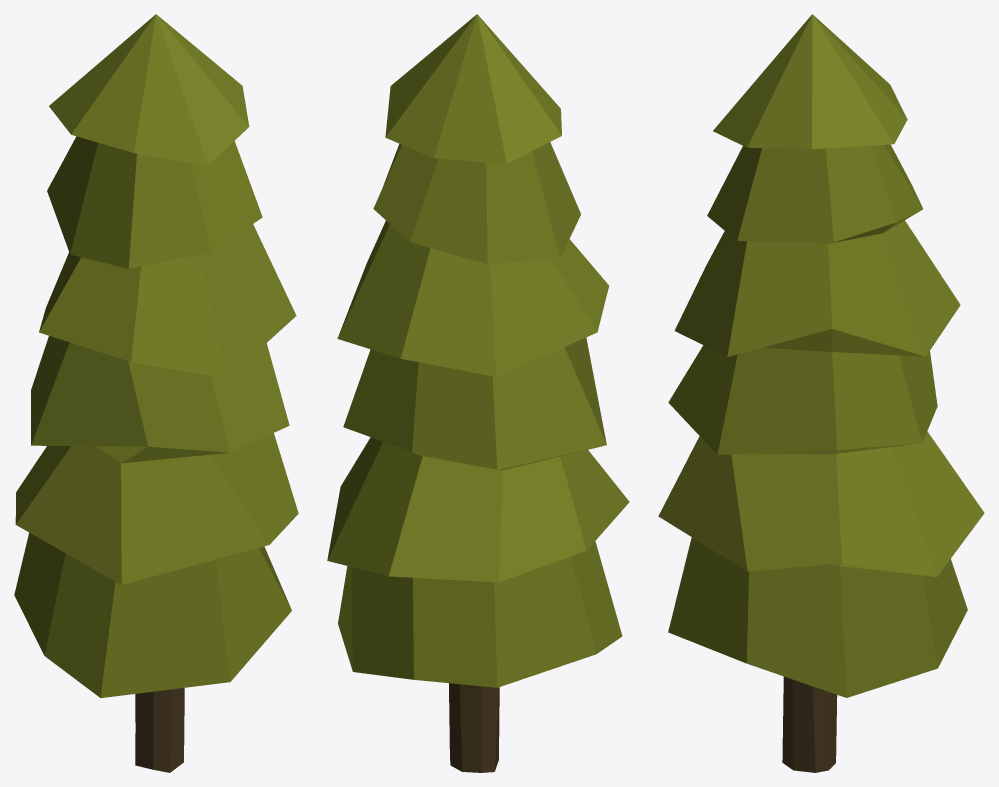
File: Tree_pine_2.fbx
3 renders of one model, left to right at view 1: azimuth 30°, elevation 25°; view 2: azimuth 150°, elevation 25°; view 3: azimuth 270°, elevation 25°, orthographic.
Parts seen in each view (by area): view 1: Tree_pine_2; view 2: Tree_pine_2; view 3: Tree_pine_2.
Part boxes in pixels (x1,y1,x2,y2): Tree_pine_2: (14, 14, 298, 772); Tree_pine_2: (327, 14, 629, 772); Tree_pine_2: (658, 14, 984, 772).
Bounding box in the file's own units: 0.1873 × 0.5387 × 0.2126.
